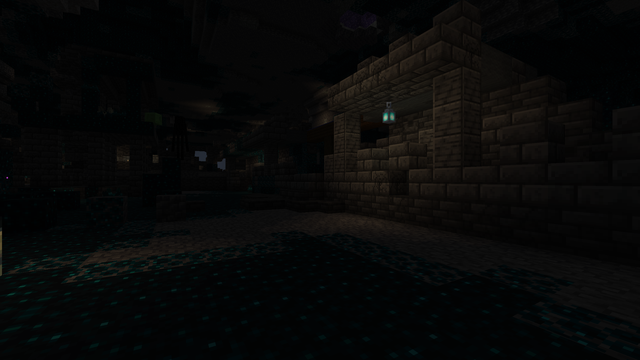endermens: (175, 114, 185, 159)
slimes: (146, 111, 159, 125)
